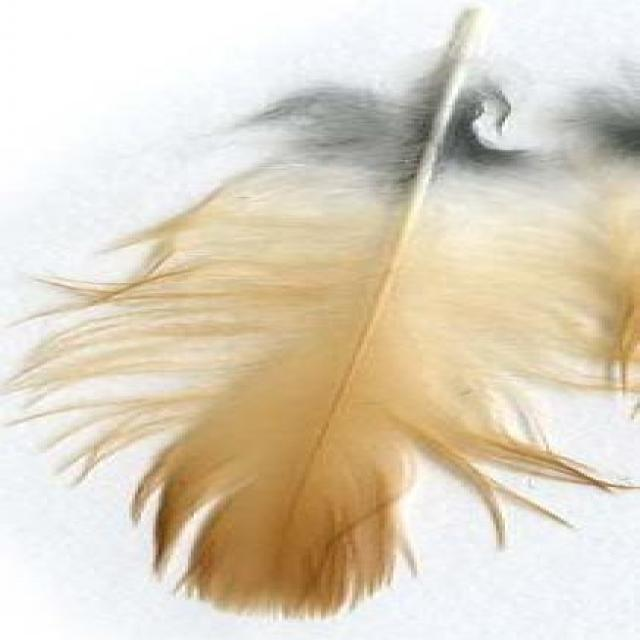feather: (0, 7, 640, 625)
